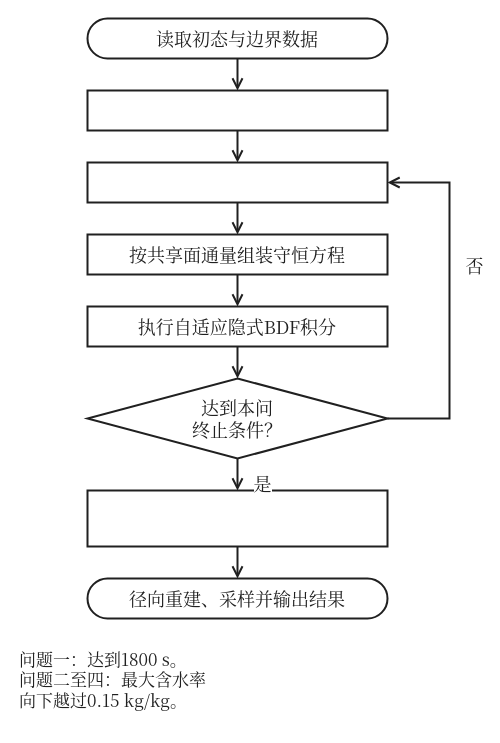
Some shapes in this 500 by 743 pixel diagram are drawn without their labels. Each missing label, with the centre of its shape:
"定位终止时刻 越阈后补算严格整秒" goes at point (237, 518).
"建立网格并初始化温湿场" goes at point (237, 110).
"更新局部物性参数" goes at point (237, 182).
